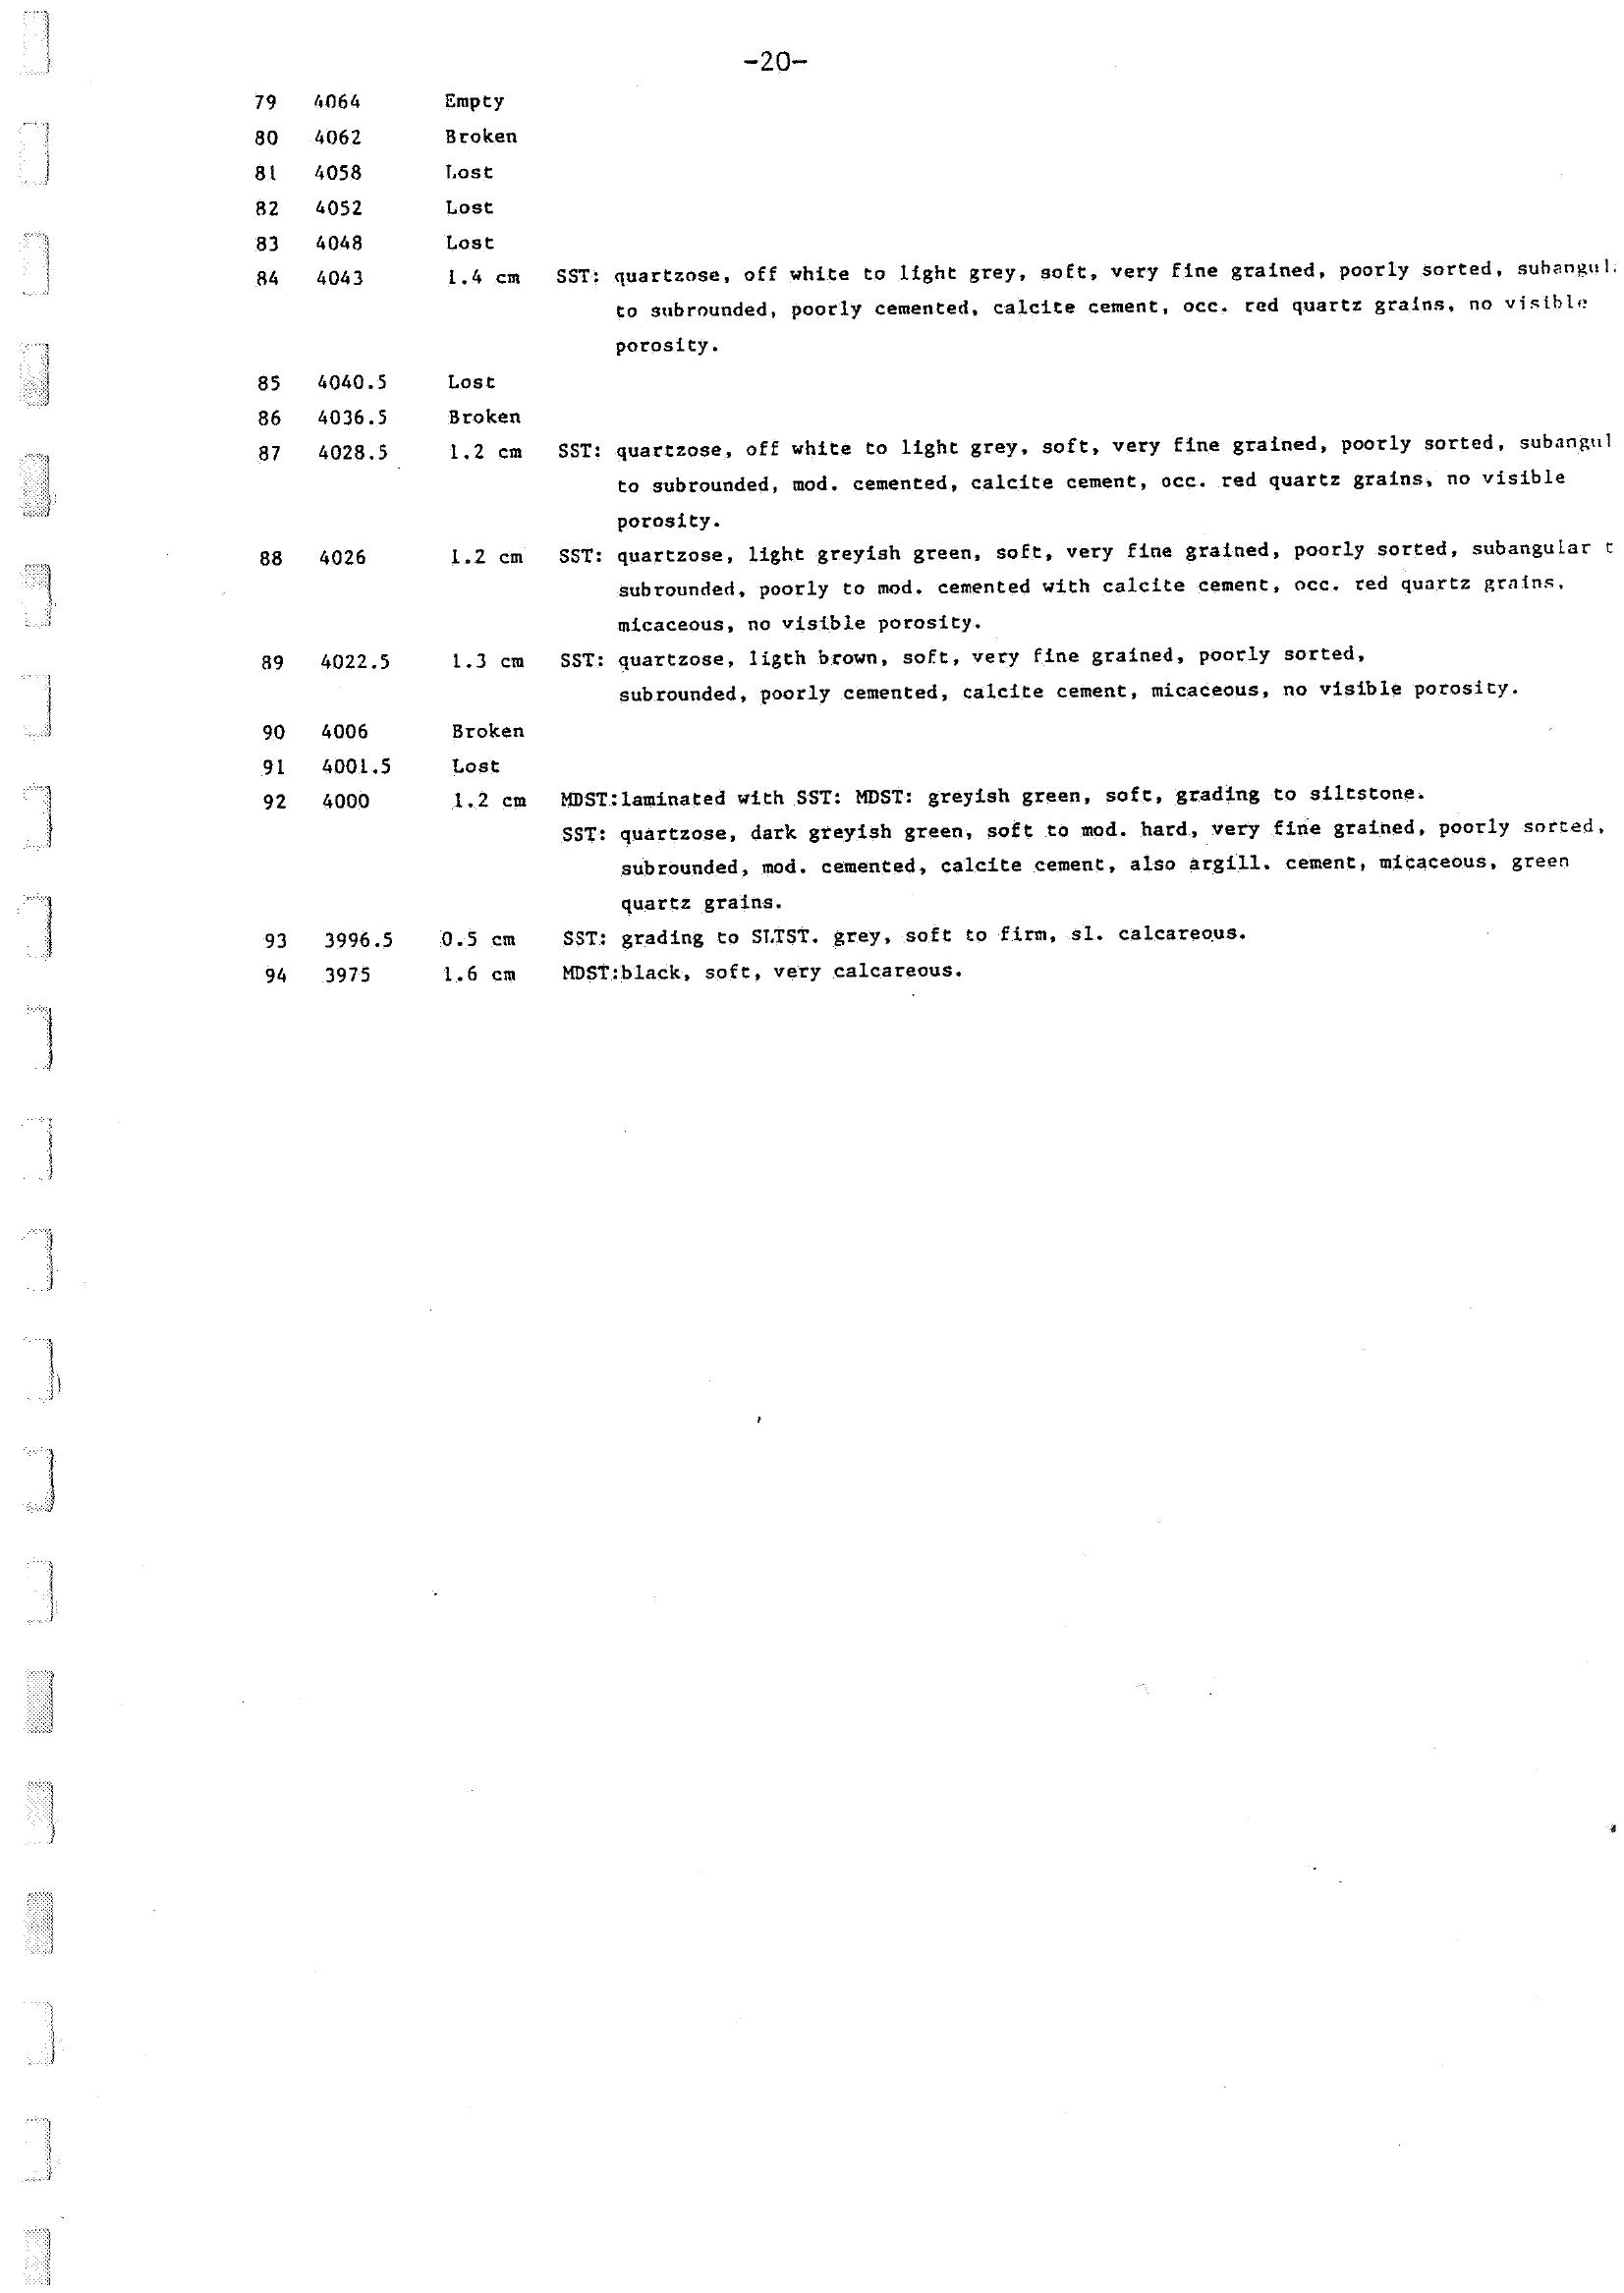table: (197, 81, 1624, 1068)
